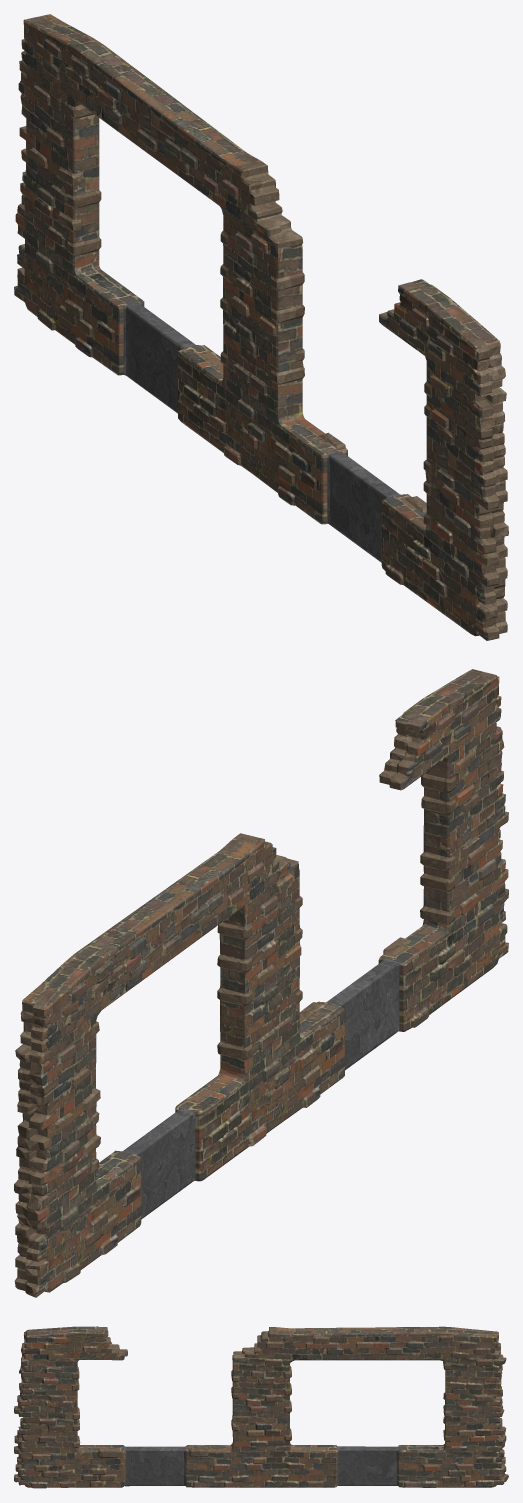
The model's file is ruin_wall_b.glb.
3 views of the same model, one above another, from view 1: azimuth 30°, elevation 25°; view 2: azimuth 150°, elevation 25°; view 3: azimuth 270°, elevation 25° (orthographic). The views are drawn at different scales.
Parts seen in each view (by area): view 1: Var1_0; view 2: Var1_0; view 3: Var1_0.
Part boxes in pixels (box(x1,y1,x2,y2)): Var1_0: box(14, 14, 508, 640); Var1_0: box(14, 669, 508, 1297); Var1_0: box(14, 1326, 508, 1488).
Size of the model in its own units: 0.2791 by 2.42 by 7.
1 material, 1 textured.
